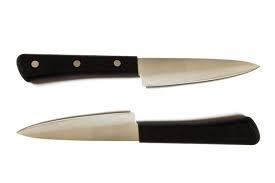Knife: (16, 109, 260, 145), (16, 53, 260, 87)
